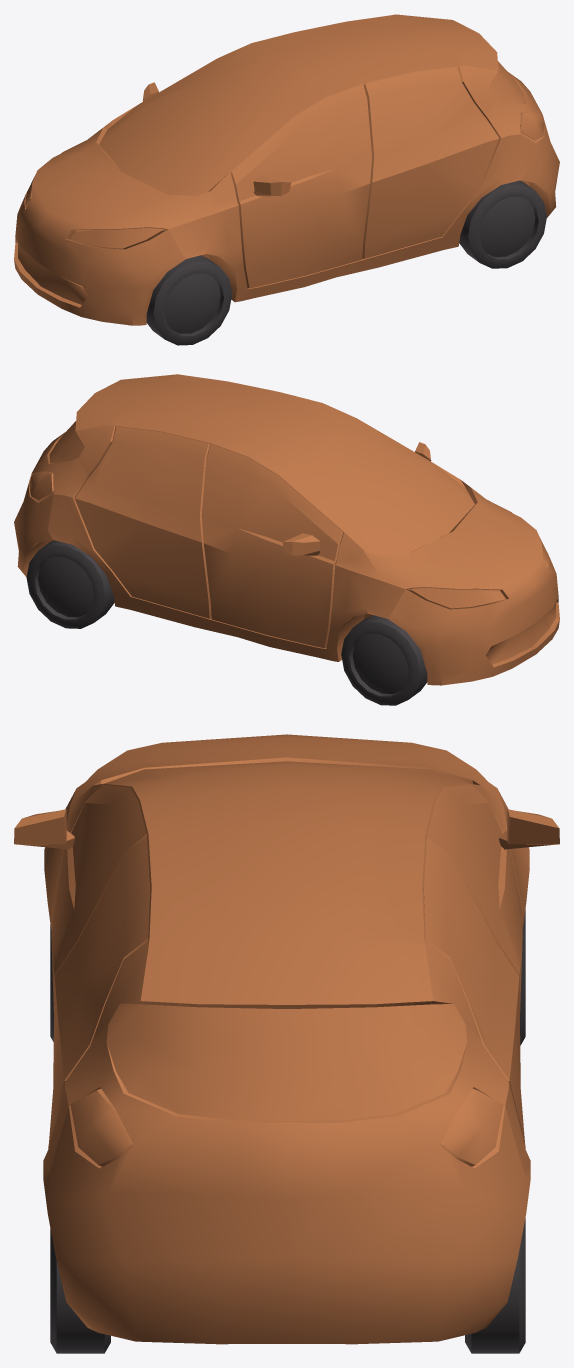
Rendered from zoe.glb.
3 views of the same model, one above another, from view 1: azimuth 30°, elevation 25°; view 2: azimuth 150°, elevation 25°; view 3: azimuth 270°, elevation 25° (orthographic). The views are drawn at different scales.
Visible parts, largest first — view 1: Body3, WheelFR.001, WheelRR.001; view 2: Body3, WheelFR, WheelRR; view 3: Body3, WheelRR, WheelRR.001.
Boxes of the visible parts, <box> form: Body3: <box>14,14,559,325</box>; WheelFR.001: <box>146,255,232,345</box>; WheelRR.001: <box>459,180,546,268</box>; Body3: <box>14,374,559,685</box>; WheelFR: <box>341,615,427,705</box>; WheelRR: <box>26,540,114,628</box>; Body3: <box>14,734,559,1344</box>; WheelRR: <box>465,1218,525,1353</box>; WheelRR.001: <box>50,1229,110,1353</box>.
Bounding box in the file's own units: 2.22 × 0.8696 × 1.07.
2 materials, 2 textured.
